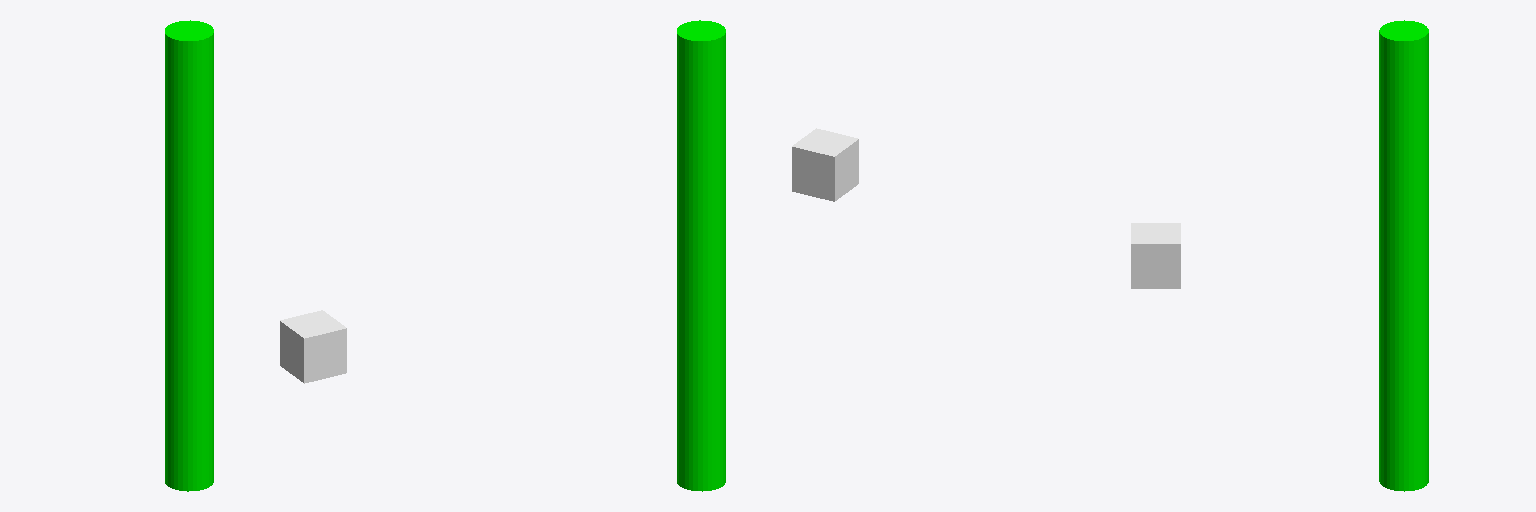
robot.urdf — inverted_pendulum:
<?xml version="1.0"?>
<robot name="inverted_pendulum">
  <link name="base_link">
    <inertial>
      <mass value="1.0"/>
      <origin xyz="0 0 0" rpy="0 0 0"/>
      <inertia ixx="0.1" ixy="0.0" ixz="0.0" iyy="0.1" iyz="0.0" izz="0.1"/>
    </inertial>
    <visual>
      <origin xyz="0 0 0" rpy="0 0 0"/>
      <geometry>
        <box size="0.1 0.1 0.1"/>
      </geometry>
      <material name="white">
        <color rgba="1 1 1 1"/>
      </material>
    </visual>
    <collision>
      <origin xyz="0 0 0" rpy="0 0 0"/>
      <geometry>
        <box size="0.1 0.1 0.1"/>
      </geometry>
    </collision>
  </link>

  <link name="pendulum_link">
    <inertial>
      <mass value="0.1"/>
      <origin xyz="0 0.5 0" rpy="0 0 0"/>
      <inertia ixx="0.01" ixy="0.0" ixz="0.0" iyy="0.01" iyz="0.0" izz="0.01"/>
    </inertial>
    <visual>
      <origin xyz="0 0.5 0" rpy="0 0 0"/>
      <geometry>
        <cylinder radius="0.05" length="1.0"/>
      </geometry>
      <material name="green">
        <color rgba="0 1 0 1"/>
      </material>
    </visual>
    <collision>
      <origin xyz="0 0.5 0" rpy="0 0 0"/>
      <geometry>
        <cylinder radius="0.05" length="1.0"/>
      </geometry>
    </collision>
  </link>

  <joint name="pendulum_joint" type="revolute">
    <parent link="base_link"/>
    <child link="pendulum_link"/>
    <origin xyz="0 0 0" rpy="0 0 0"/>
    <axis xyz="0 1 0"/>
    <limit lower="-3.14" upper="3.14" effort="10" velocity="1.0"/>
  </joint>
</robot>

--- What the picture shows (computed from the rendered views, not written in the file) ---
Views: 3 orthographic renders of the robot side by side, from view 1: azimuth 30°, elevation 25°; view 2: azimuth 150°, elevation 25°; view 3: azimuth 270°, elevation 25°.
Robot: inverted_pendulum — 2 links, 1 joints (1 revolute); root link base_link; default pose: every joint at zero.
Visible links, largest first — view 1: pendulum_link, base_link; view 2: pendulum_link, base_link; view 3: pendulum_link, base_link.
Boxes of the visible links, x1,y1,x2,y2 form: pendulum_link: [165, 20, 213, 491]; base_link: [280, 310, 346, 383]; pendulum_link: [677, 20, 725, 491]; base_link: [792, 128, 858, 201]; pendulum_link: [1379, 20, 1428, 491]; base_link: [1131, 223, 1180, 288].
Size in the robot's own frame: 0.1 by 0.6 by 1 metres.
Geometry: primitives only (box / cylinder / sphere), no mesh files.